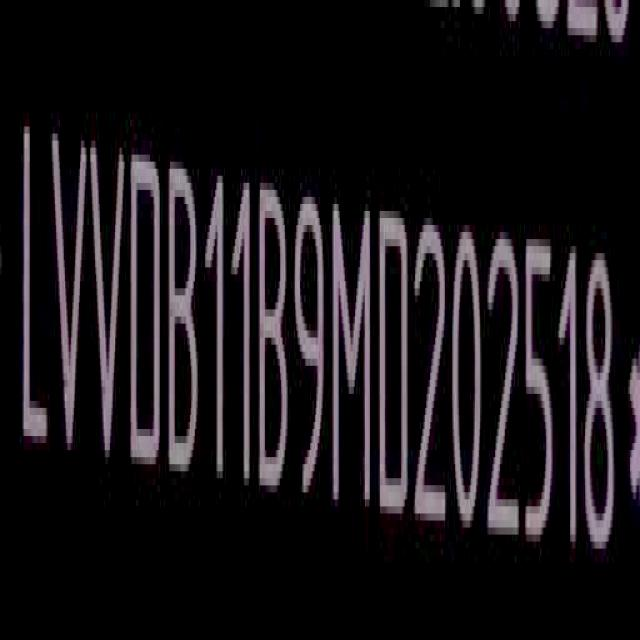0: (452, 228, 485, 542)
1: (207, 166, 229, 491), (559, 235, 580, 553), (234, 175, 254, 494)
2: (489, 229, 525, 545), (415, 214, 449, 534)
5: (524, 228, 555, 546)
8: (586, 246, 619, 558)
9: (295, 191, 328, 508)
B: (258, 177, 290, 496), (170, 155, 200, 485)
D: (130, 145, 166, 477), (379, 211, 411, 528)
L: (20, 114, 52, 460)
M: (332, 192, 373, 518)
V: (50, 124, 87, 469), (91, 133, 128, 472)
